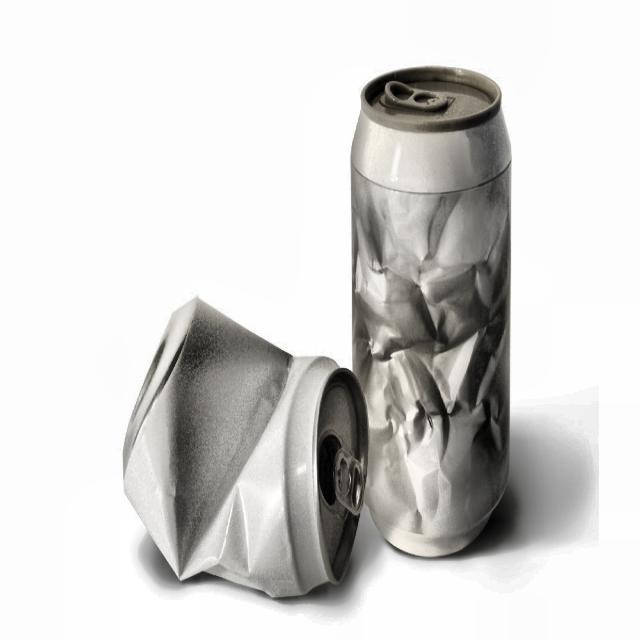can: (346, 56, 520, 566), (119, 284, 372, 616)
